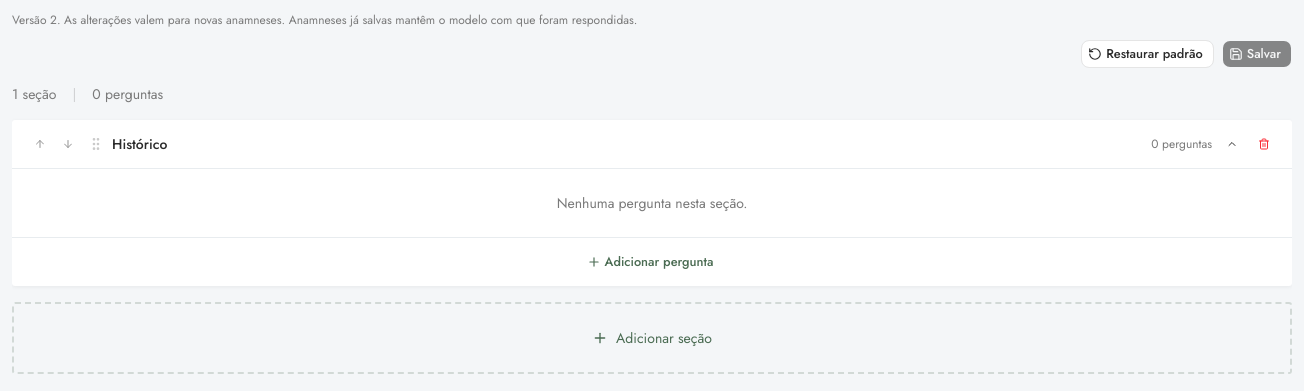
AnamnesisTemplateSettings › shows the sections returned by the reset action
Click the button "Restaurar padrão". click: (1148, 54)
box: [1081, 40, 1214, 68]
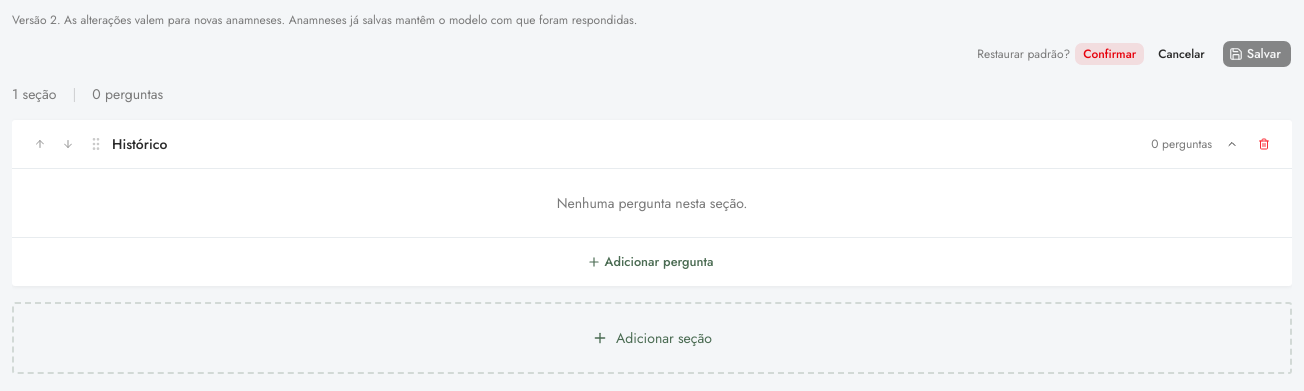
Click the button "Confirmar". click: (1110, 54)
box: [1074, 42, 1145, 66]
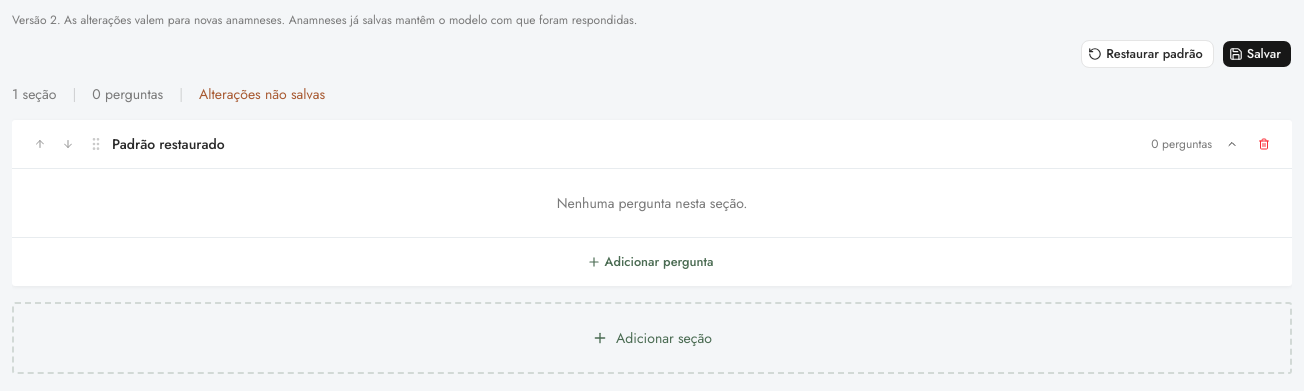
Now the button "Padrão restaurado" is shown, box [112, 134, 1143, 154]
Now the button "Histórico" is gone
